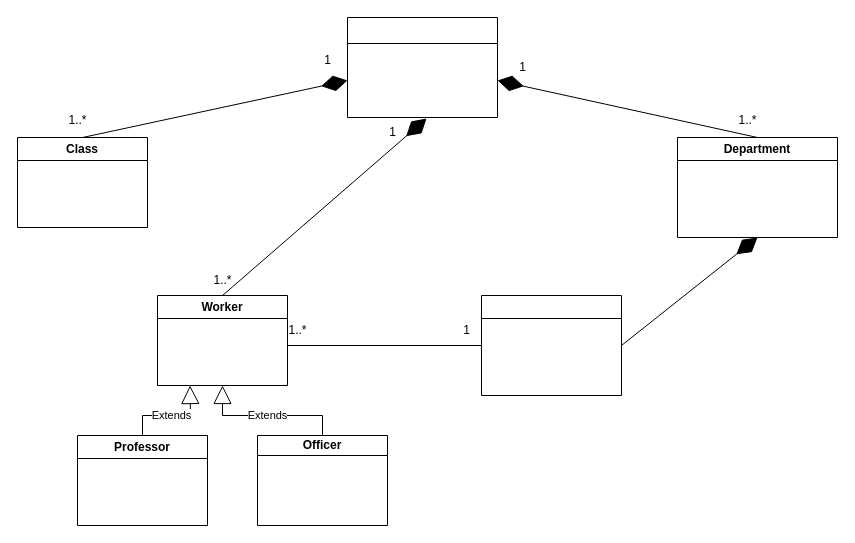
Image size: 855x543. Some labels were removed from this diagram. The box of each missing label's shape, as (x1, y1, x2, y2) in pixels:
Office: (480, 294, 622, 396)
University: (346, 16, 498, 118)
